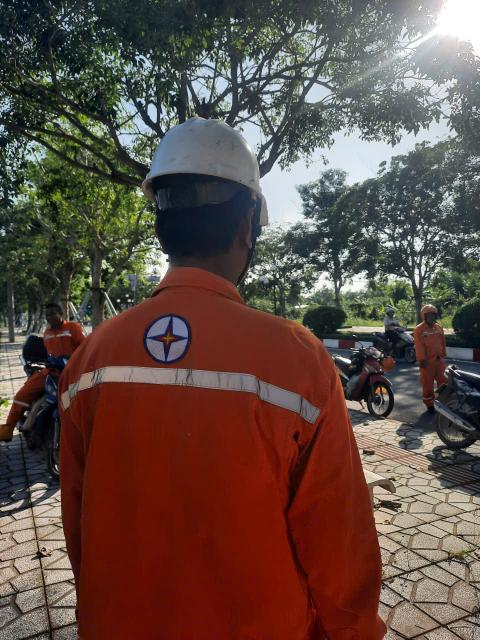helmet: (122, 85, 291, 247), (419, 301, 441, 320)
